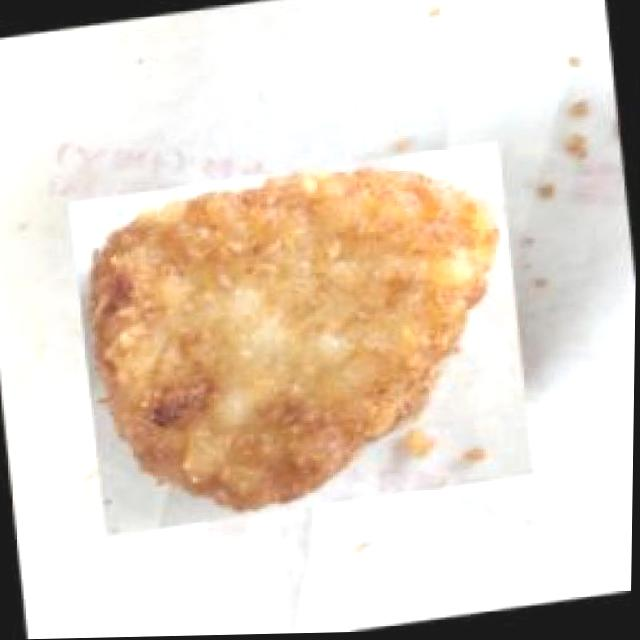triangle_hash_brown: (64, 141, 541, 539)
